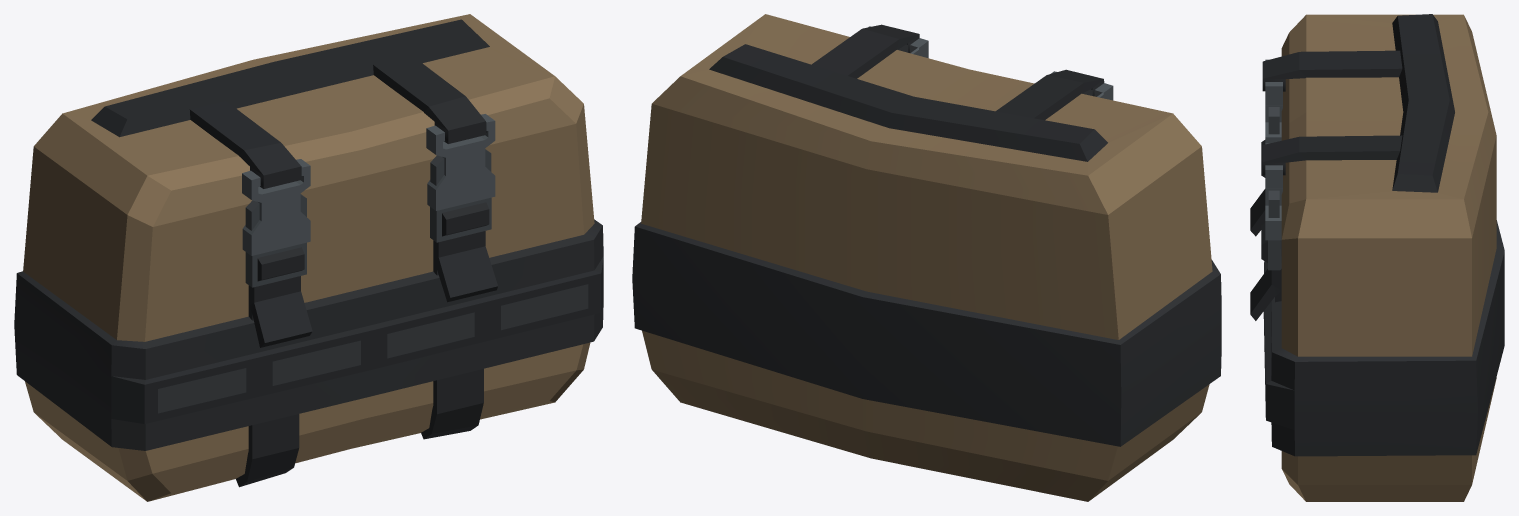
File: SM_Item_Pouch_05.fbx
3 renders of one model, left to right at view 1: azimuth 30°, elevation 25°; view 2: azimuth 150°, elevation 25°; view 3: azimuth 270°, elevation 25°, orthographic. The views are drawn at different scales.
Parts seen in each view (by area): view 1: SM_Item_Pouch_05; view 2: SM_Item_Pouch_05; view 3: SM_Item_Pouch_05.
Boxes of the visible parts, x1,y1,x2,y2 form: SM_Item_Pouch_05: (14,14,603,501); SM_Item_Pouch_05: (632,14,1221,501); SM_Item_Pouch_05: (1250,14,1504,501).
Size of the model in its own units: 31.15 by 20.78 by 15.04.
